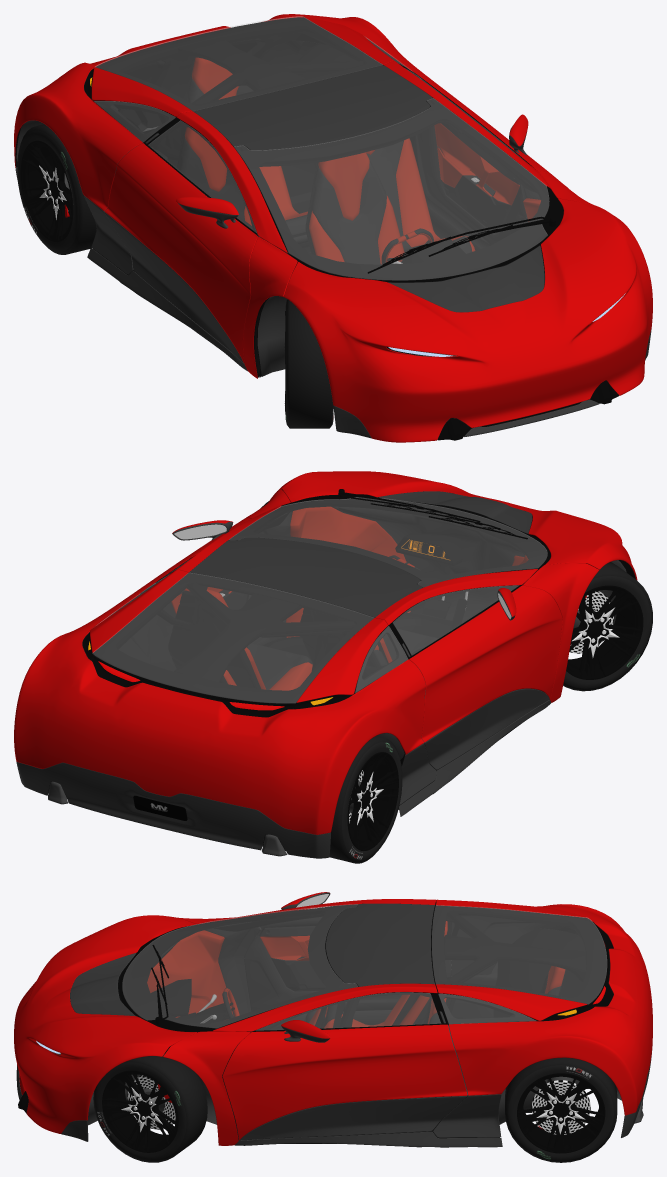
Rendered from car.glb.
The picture shows the model from 3 angles, top to bottom: view 1: azimuth 30°, elevation 25°; view 2: azimuth 150°, elevation 25°; view 3: azimuth 270°, elevation 25°; orthographic projection. The views are drawn at different scales.
Parts seen in each view (by area): view 1: BodyHood, BodyWindshield, BodyRearwindow, BodyDoorRColor1, BodyRearPanelsColor1, BodyRoofPanel, BodyWindshieldGasket, InteriorSeatsColor1, InteriorSeatsColor2, BodyPillars, InteriorPillar, InteriorRearHatch (+21 smaller); view 2: BodyRearPanelsColor1, BodyRearwindow, BodyWindshield, BodyDoorRColor1, BodyPanelsColor2, BodyRoofPanel, BodyHood, InteriorRearHatch, BodyPillars, InteriorPillar, BodyWindshieldGasket, InteriorDashMid (+22 smaller); view 3: BodyRearPanelsColor1, BodyWindshield, BodyDoorLColor1, BodyHood, BodyRearwindow, BodyRoofPanel, BodyPillars, BodyWindshieldGasket, BodyDoorLColor2, BodyPanelsColor2, WheelFrontL, InteriorRearHatch (+25 smaller).
Boxes of the visible parts, x1,y1,x2,y2 form: BodyHood: [283, 198, 652, 442]; BodyWindshield: [234, 98, 549, 280]; BodyRearwindow: [95, 16, 382, 110]; BodyDoorRColor1: [104, 143, 257, 362]; BodyRearPanelsColor1: [14, 14, 428, 210]; BodyRoofPanel: [193, 65, 432, 150]; BodyWindshieldGasket: [234, 99, 563, 282]; InteriorSeatsColor1: [185, 57, 475, 264]; InteriorSeatsColor2: [180, 78, 472, 264]; BodyPillars: [176, 61, 598, 378]; InteriorPillar: [158, 37, 434, 168]; InteriorRearHatch: [93, 17, 383, 117]; BodyRearPanelsColor1: [14, 569, 425, 834]; BodyRearwindow: [92, 573, 373, 703]; BodyWindshield: [229, 497, 547, 587]; BodyDoorRColor1: [409, 585, 562, 742]; BodyPanelsColor2: [16, 700, 550, 858]; BodyRoofPanel: [189, 537, 422, 617]; BodyHood: [279, 471, 637, 580]; InteriorRearHatch: [93, 573, 386, 707]; BodyPillars: [175, 489, 599, 702]; InteriorPillar: [174, 574, 417, 682]; BodyWindshieldGasket: [230, 497, 550, 587]; InteriorDashMid: [331, 502, 528, 622]; BodyRearPanelsColor1: [436, 899, 652, 1115]; BodyWindshield: [122, 904, 357, 1028]; BodyDoorLColor1: [222, 1024, 467, 1139]; BodyHood: [14, 915, 196, 1133]; BodyRearwindow: [432, 905, 606, 1003]; BodyRoofPanel: [326, 903, 434, 986]; BodyPillars: [163, 899, 437, 1145]; BodyWindshieldGasket: [118, 905, 357, 1032]; BodyDoorLColor2: [240, 1096, 467, 1140]; BodyPanelsColor2: [16, 1050, 652, 1147]; WheelFrontL: [93, 1054, 207, 1162]; InteriorRearHatch: [431, 905, 606, 1020].
Size of the model in its own units: 2.54 by 1.15 by 4.36.
Materials: 23 (6 with a texture image).
